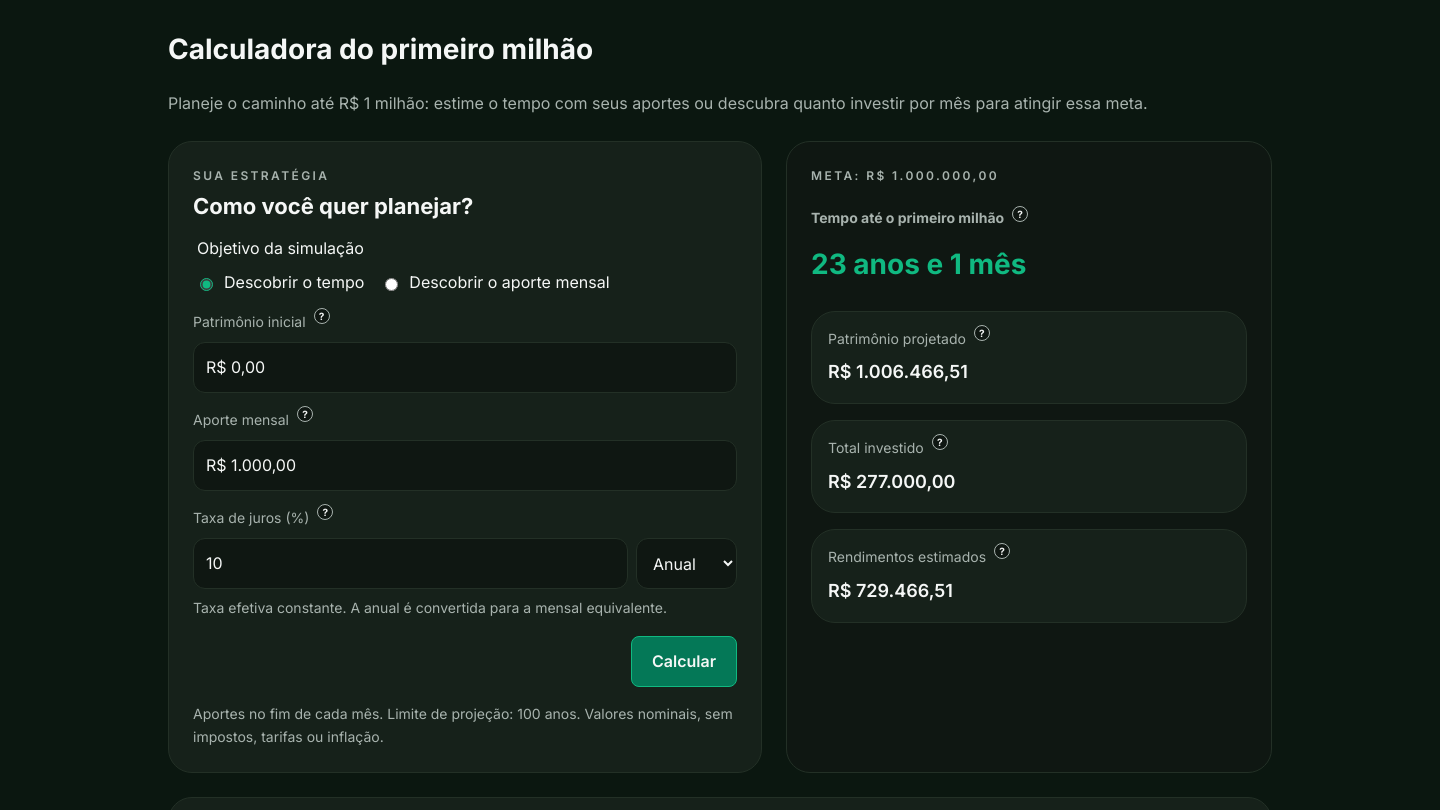
Test: FirstMillionCalculator › recognizes existing wealth and does not render an empty chart
Replace the text in the field labelled "Patrimônio inicial" with "100000000" at (465,368), box [193,342,737,394]
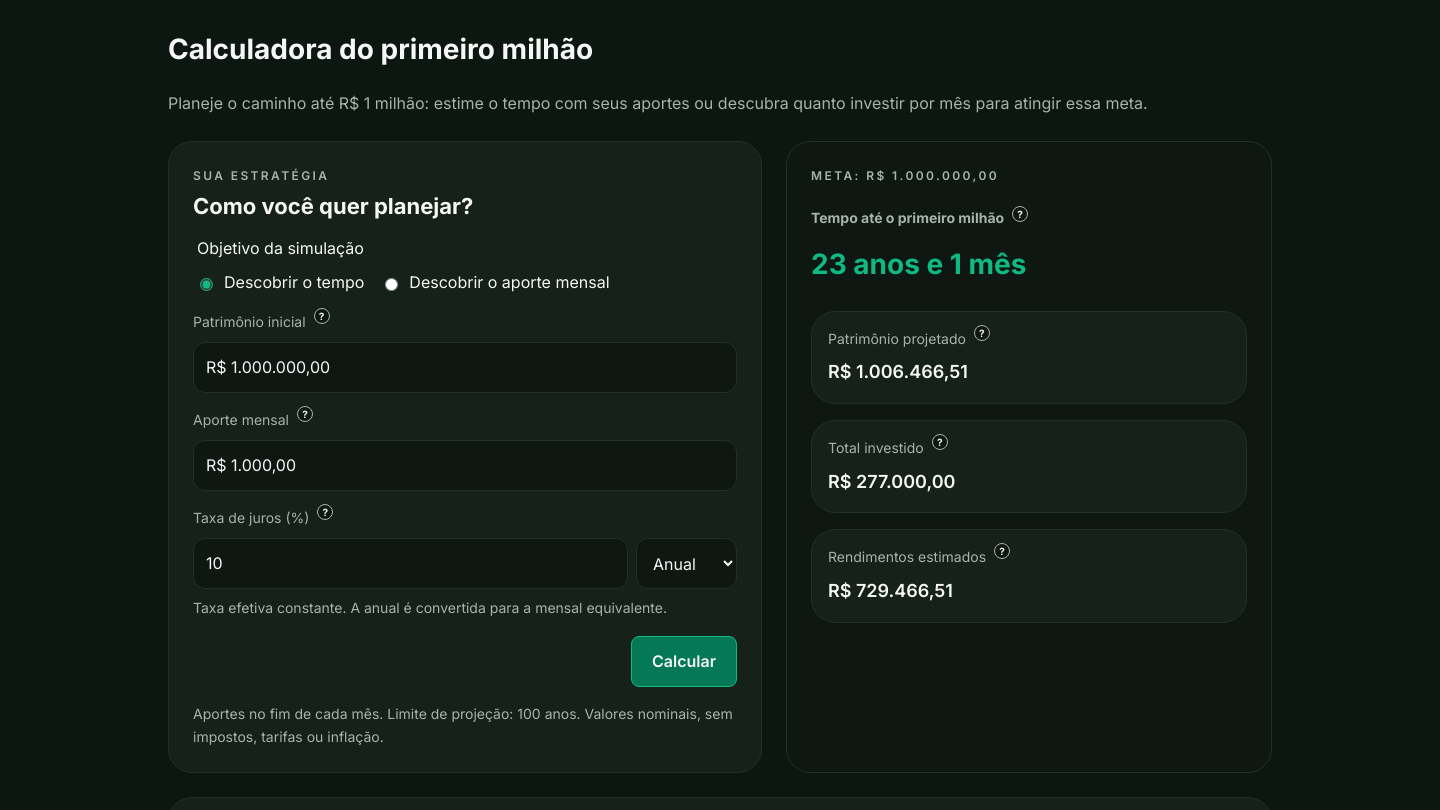
Click the button "Calcular".
click(684, 662)  # box [631,636,737,687]
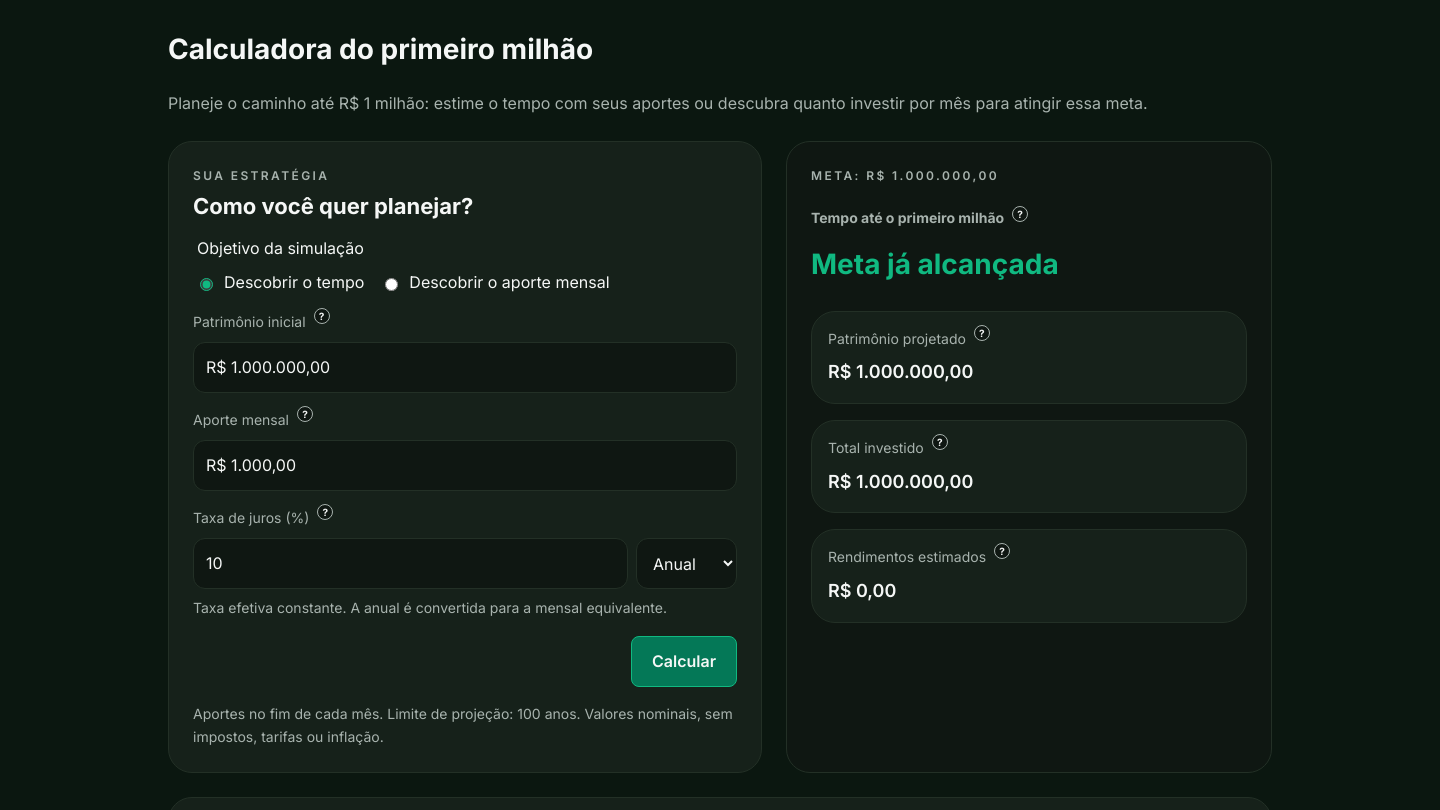
expect the text "Meta já alcançada" is shown: met, box [811,247,1059,281]
